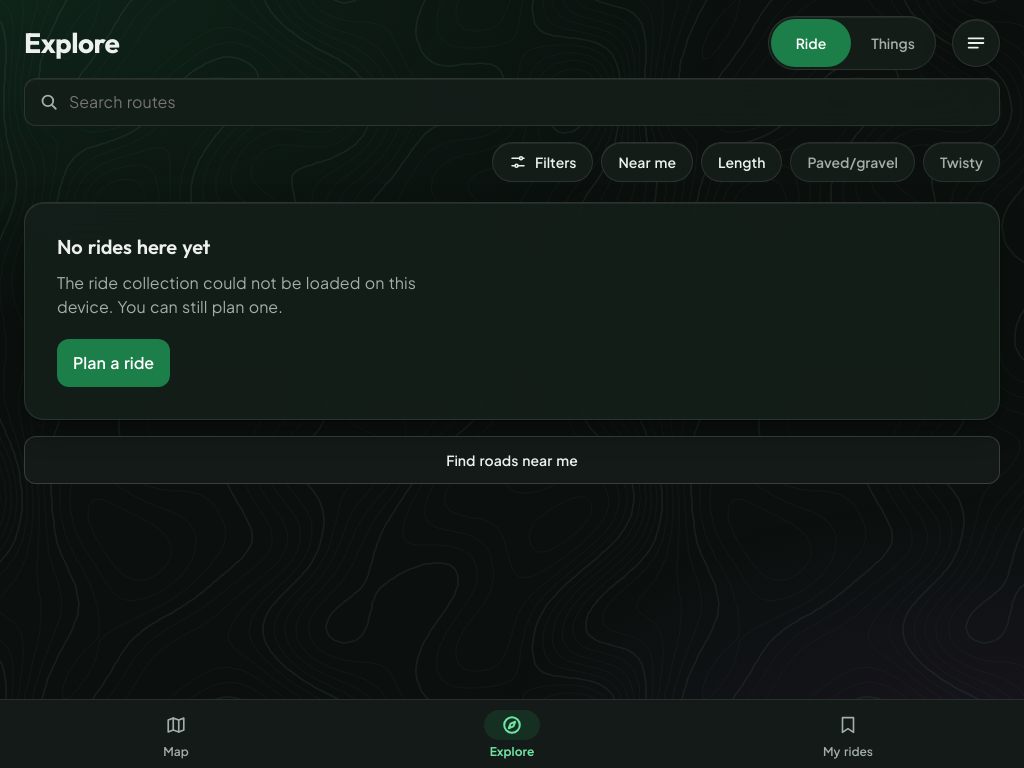
Test: Explore Ride and Things › opens Things without requesting permission or fetching until the rider asks
Click the tab "Things" at (893, 43), box [853,19,933,67]
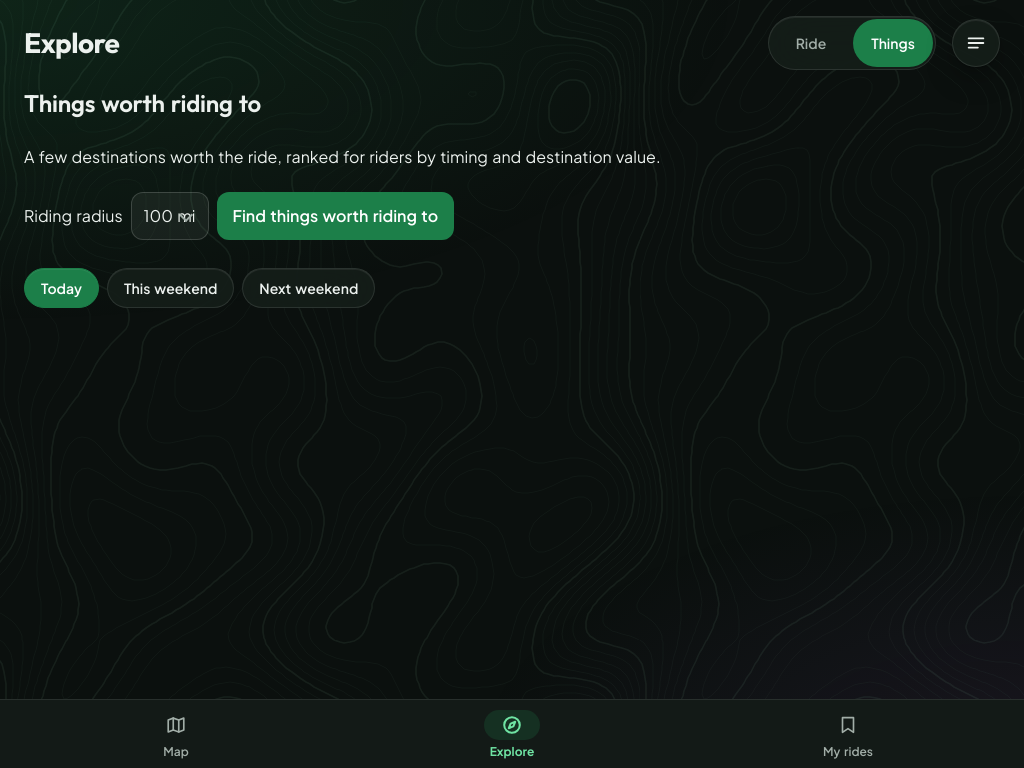
expect the button "Find things worth riding to" is shown: met, box [216,192,454,240]
